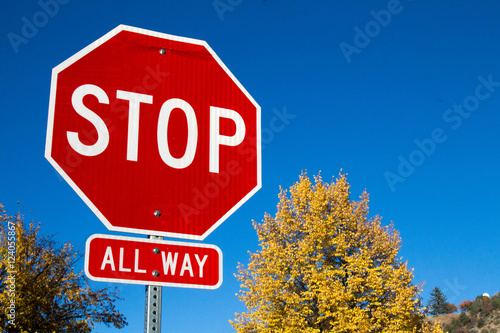StopSign: (43, 23, 261, 240)
